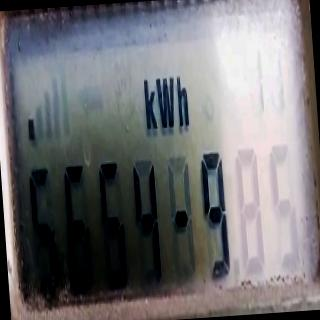-: (173, 206, 190, 233), (26, 115, 36, 145)
4: (130, 150, 168, 294)
5: (22, 157, 62, 304), (94, 152, 133, 300), (264, 136, 304, 278)
6: (57, 150, 99, 302)
8: (230, 138, 268, 283)
9: (194, 140, 233, 281)
